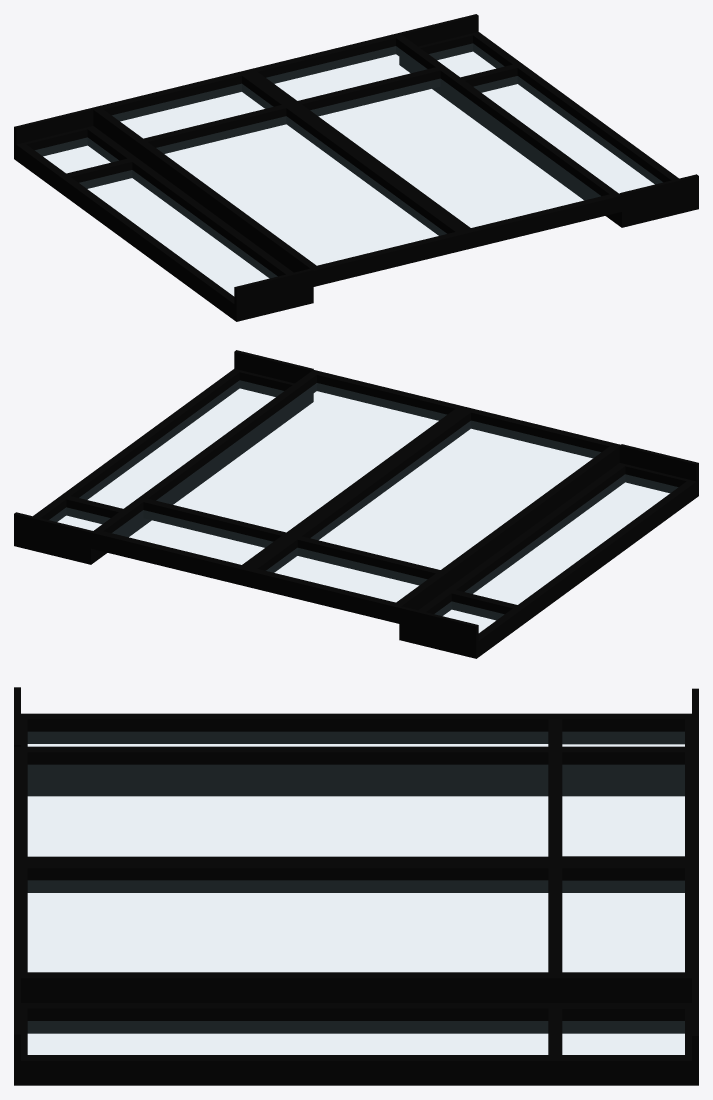
Rendered from Fensterfront_Tür.fbx.
3 views of the same model, one above another, from view 1: azimuth 30°, elevation 25°; view 2: azimuth 150°, elevation 25°; view 3: azimuth 270°, elevation 25° (orthographic). The views are drawn at different scales.
Visible parts, largest first — view 1: WindowPaneBig.001; view 2: WindowPaneBig.001; view 3: WindowPaneBig.001.
Part boxes in pixels (bbox=[...]): WindowPaneBig.001: bbox=[14, 14, 698, 321]; WindowPaneBig.001: bbox=[14, 350, 698, 658]; WindowPaneBig.001: bbox=[14, 687, 698, 1085].
Bounding box in the file's own units: 540 × 37.03 × 450.
